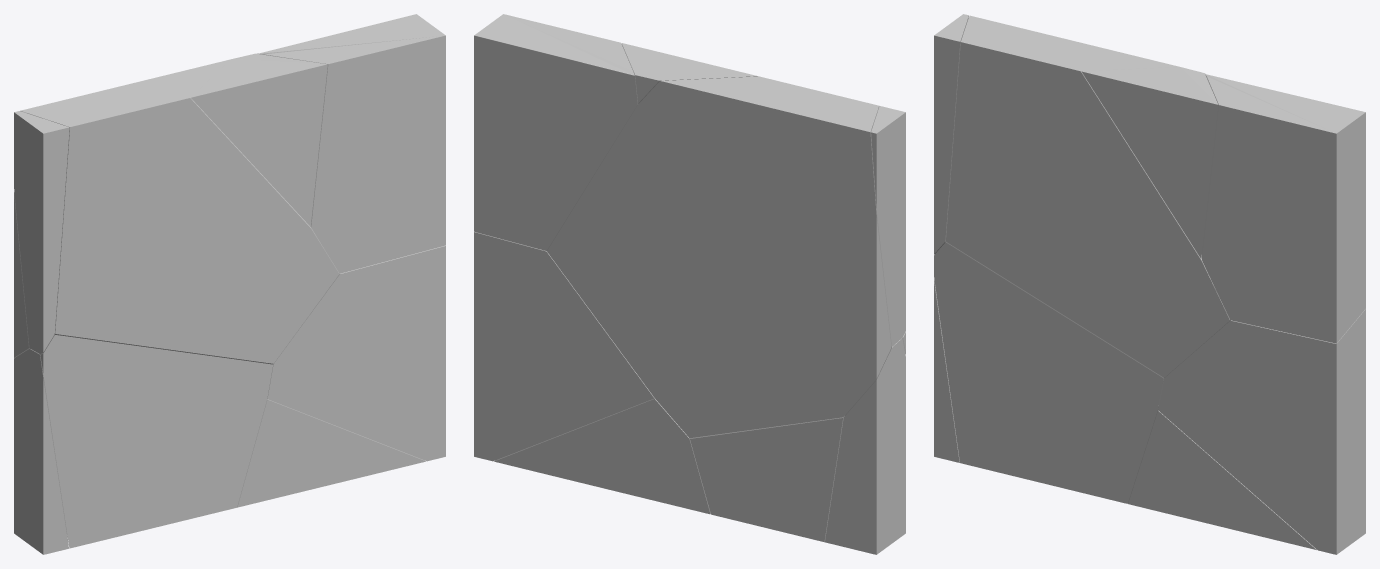
The model's file is mirror.obj.
3 renders of one model, left to right at view 1: azimuth 30°, elevation 25°; view 2: azimuth 150°, elevation 25°; view 3: azimuth 330°, elevation 25°, orthographic.
Visible parts, largest first — view 1: Cube_cell.004, Cube_cell.005, Cube_cell, Cube_cell.001, Cube_cell.002, Cube_cell.006, Cube_cell.003, Cube_cell.007; view 2: Cube_cell.004, Cube_cell, Cube_cell.001, Cube_cell.005, Cube_cell.003, Cube_cell.007, Cube_cell.006, Cube_cell.002; view 3: Cube_cell.004, Cube_cell, Cube_cell.005, Cube_cell.001, Cube_cell.002, Cube_cell.003, Cube_cell.006, Cube_cell.007.
Boxes of the visible parts, x1,y1,x2,y2 form: Cube_cell.004: (14,59,339,368); Cube_cell.005: (40,335,272,548); Cube_cell: (259,14,445,273); Cube_cell.001: (267,245,445,461); Cube_cell.002: (191,53,327,226); Cube_cell.006: (14,111,69,353); Cube_cell.003: (237,399,425,507); Cube_cell.007: (14,348,68,554); Cube_cell.004: (547,76,891,438); Cube_cell: (474,14,637,250); Cube_cell.001: (474,232,654,461); Cube_cell.005: (690,332,905,542); Cube_cell.003: (494,398,710,514); Cube_cell.007: (825,338,905,554); Cube_cell.006: (871,106,905,346); Cube_cell.002: (621,43,757,104); Cube_cell.004: (946,15,1230,382); Cube_cell: (1202,74,1365,343); Cube_cell.005: (934,242,1163,503); Cube_cell.001: (1158,309,1365,554); Cube_cell.002: (1081,67,1218,258); Cube_cell.003: (1128,405,1316,549); Cube_cell.006: (934,14,968,254); Cube_cell.007: (934,279,959,462).
Bounding box in the file's own units: 2 × 2 × 0.253.
Materials: 1 (1 with a texture image).
